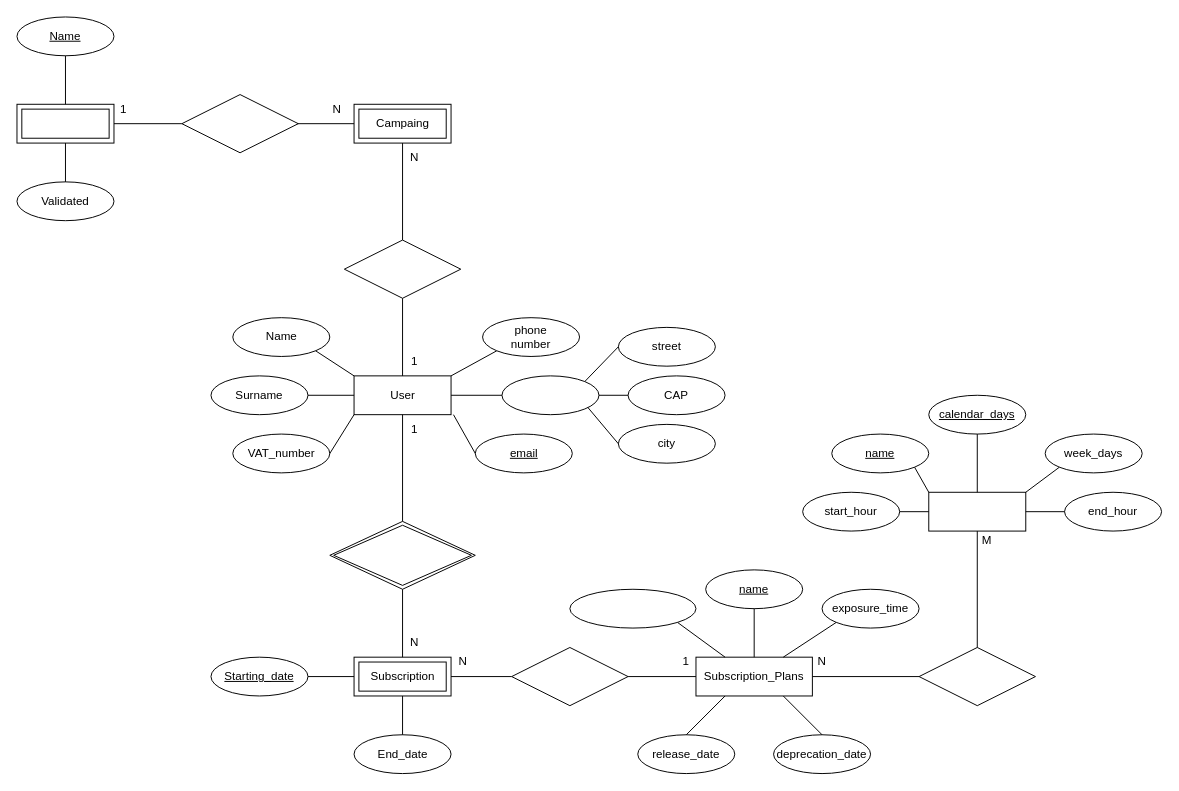
Image size: 1179x791. Some labels were removed from this diagram. Here are the shapes that lost their labels. From the top down, the centre of each, then its label:
At point 65,123: "Media_Obj".
At point 239,123: "Include".
At point 402,268: "Start".
At point 550,395: "adress".
At point 977,511: "Time_Slots".
At point 402,554: "Subscribe".
At point 632,608: "scheduling_priority".
At point 569,676: "of the type".
At point 976,676: "runned_on".
